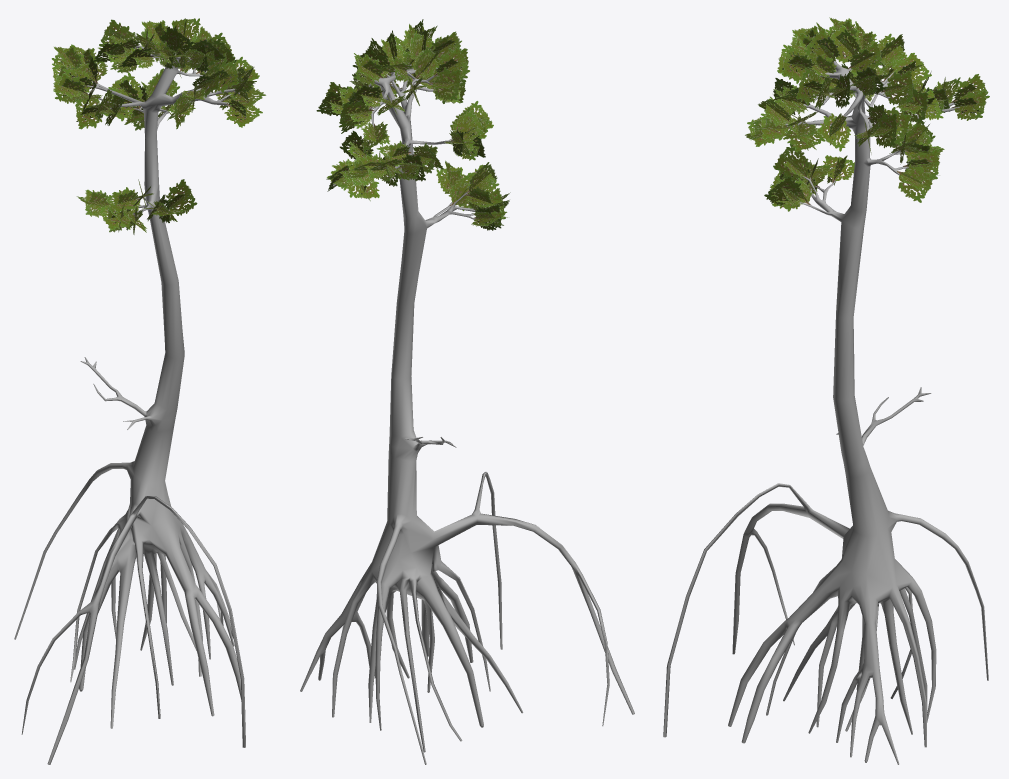
The model's file is CHA_ENV_TallMangrove.fbx.
3 renders of one model, left to right at view 1: azimuth 30°, elevation 25°; view 2: azimuth 150°, elevation 25°; view 3: azimuth 270°, elevation 25°, orthographic. The views are drawn at different scales.
Parts seen in each view (by area): view 1: CHA_ENV_TallMangrove, Leaves; view 2: CHA_ENV_TallMangrove, Leaves; view 3: CHA_ENV_TallMangrove, Leaves.
Boxes of the visible parts, x1,y1,x2,y2 form: CHA_ENV_TallMangrove: (14, 44, 245, 764); Leaves: (51, 18, 266, 234); CHA_ENV_TallMangrove: (300, 52, 634, 764); Leaves: (316, 19, 510, 230); CHA_ENV_TallMangrove: (663, 49, 988, 764); Leaves: (745, 17, 989, 211).
Size of the model in its own units: 12.08 by 30.77 by 12.9.
Materials: 2 (1 with a texture image).
